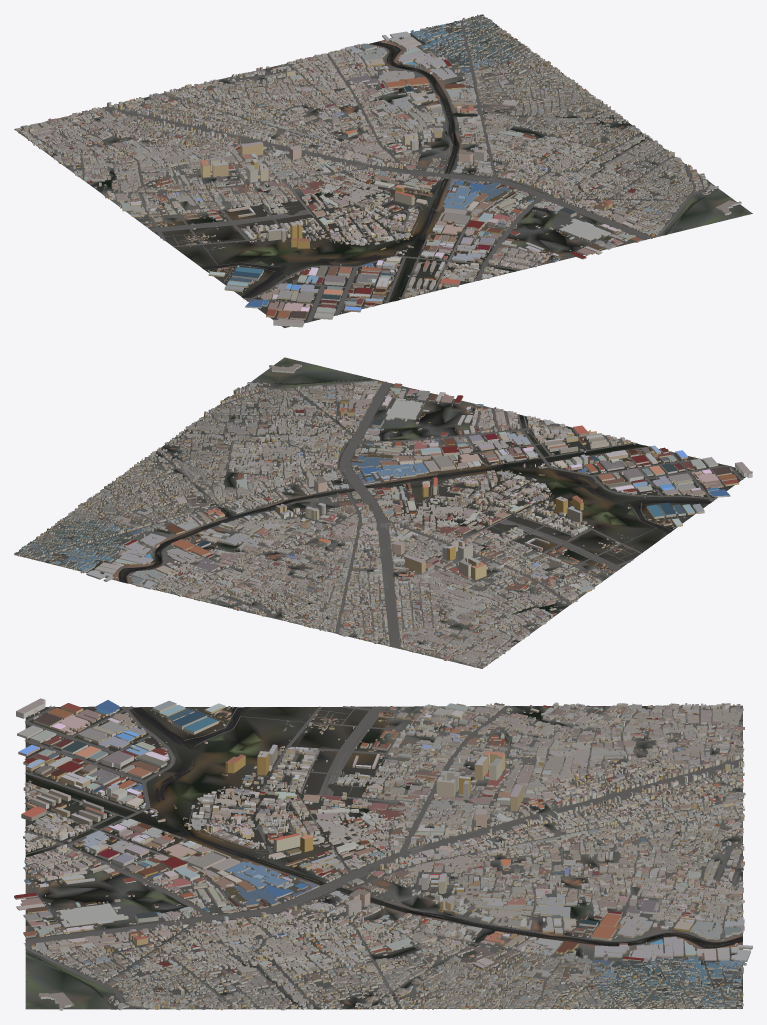
3 renders of one model, top to bottom at view 1: azimuth 30°, elevation 25°; view 2: azimuth 150°, elevation 25°; view 3: azimuth 270°, elevation 25°, orthographic. The views are drawn at different scales.
Visible parts, largest first — view 1: buildings, ground, roads, water; view 2: buildings, ground, roads, water; view 3: buildings, ground, roads, water.
Part boxes in pixels (bbox=[...]): buildings: bbox=[15, 14, 741, 327]; ground: bbox=[14, 16, 752, 327]; roads: bbox=[21, 20, 709, 322]; water: bbox=[203, 42, 705, 300]; buildings: bbox=[14, 364, 752, 668]; ground: bbox=[14, 357, 752, 668]; roads: bbox=[35, 380, 742, 665]; water: bbox=[118, 379, 711, 583]; buildings: bbox=[14, 698, 752, 1010]; ground: bbox=[25, 705, 742, 1009]; roads: bbox=[24, 705, 743, 1009]; water: bbox=[26, 707, 742, 1004].
Size of the model in its own units: 2860 by 83.68 by 2886.
